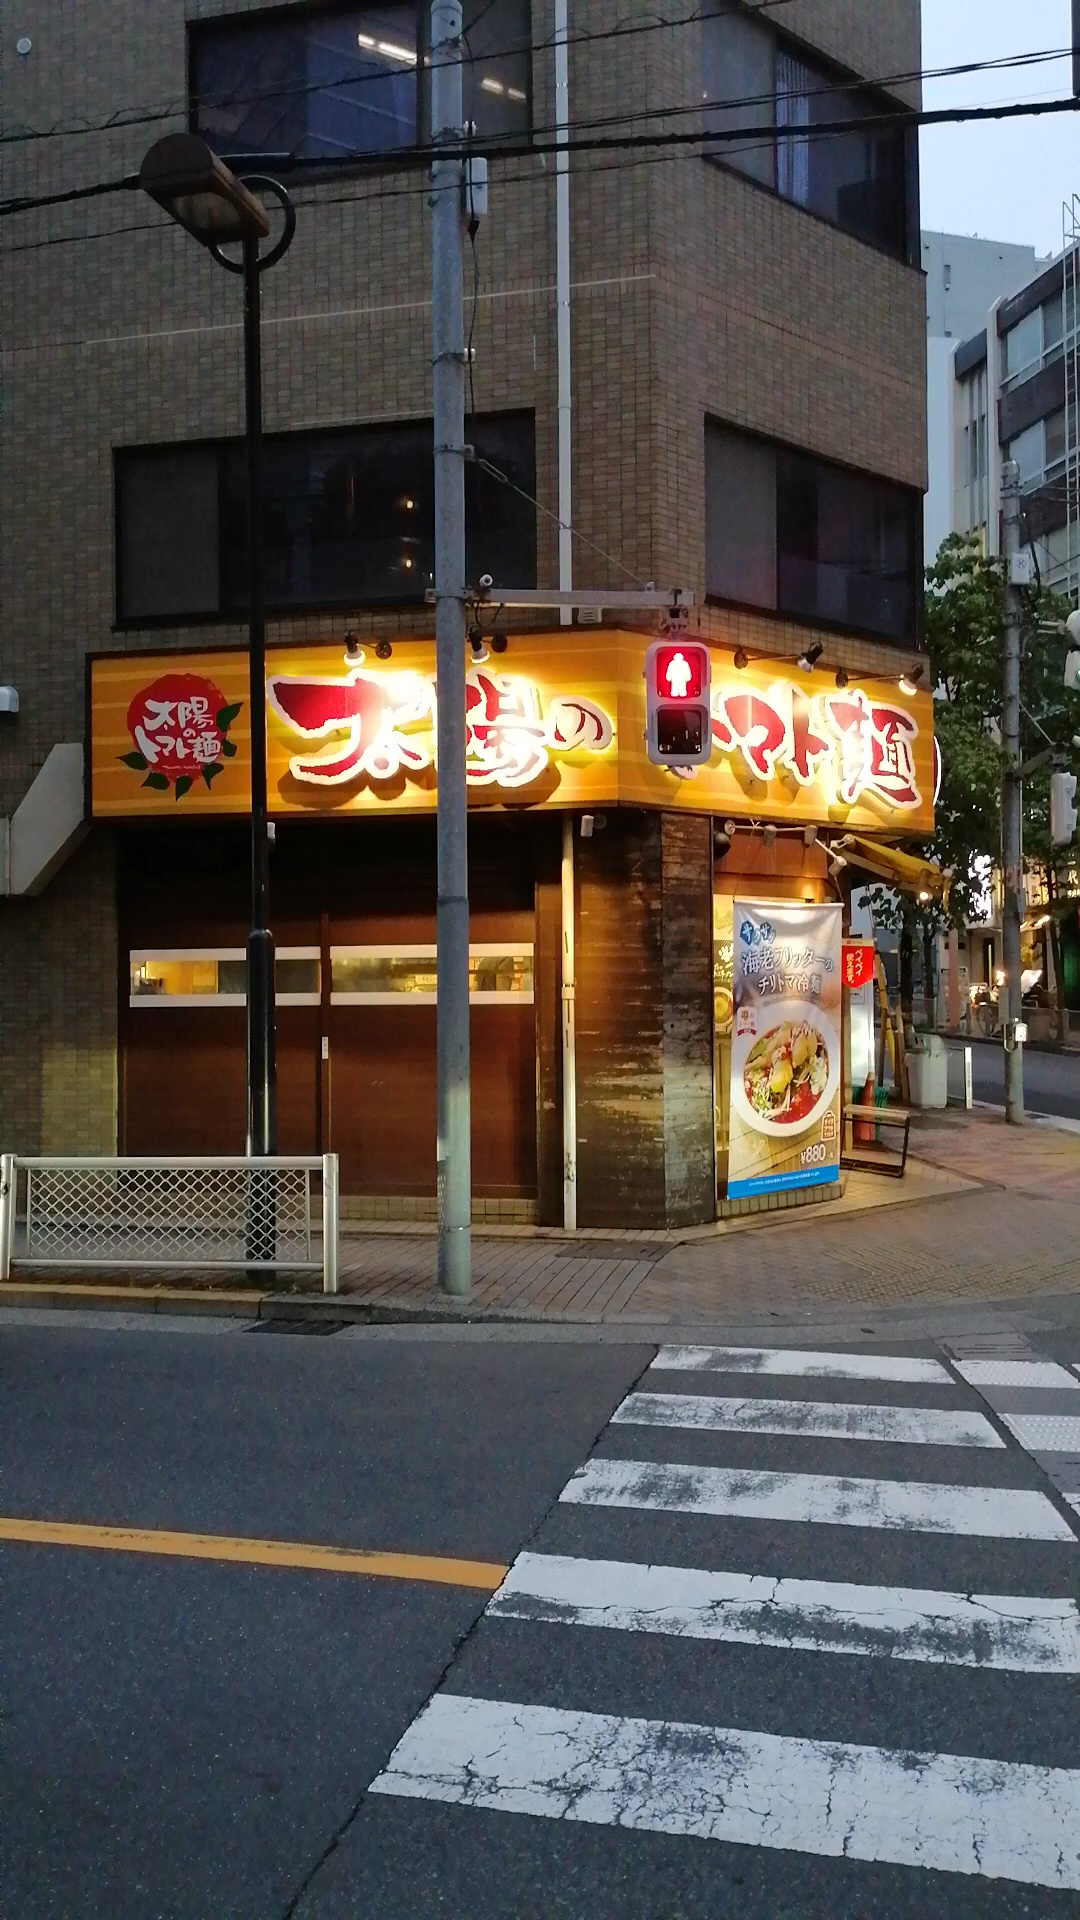red: (645, 640, 713, 766)
